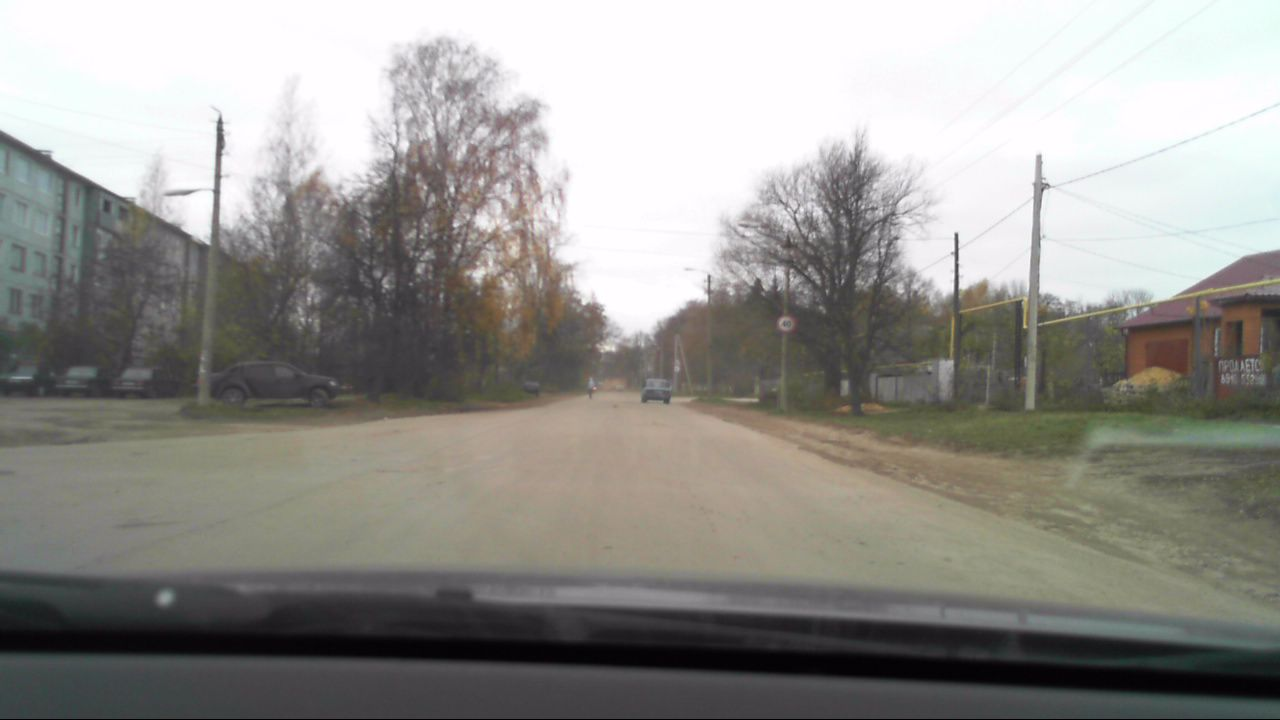speed_warning_40: (775, 313, 794, 333)
